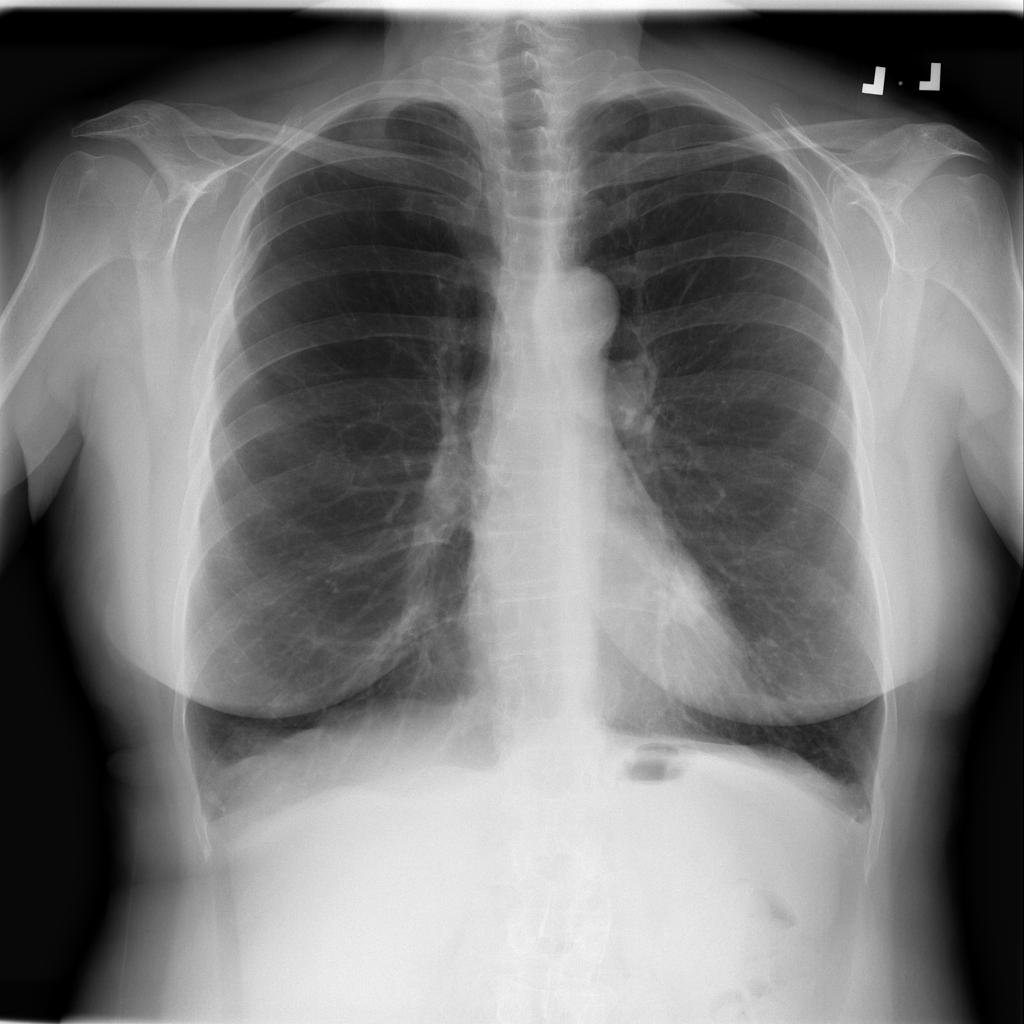nodule: (647, 556, 735, 647)
